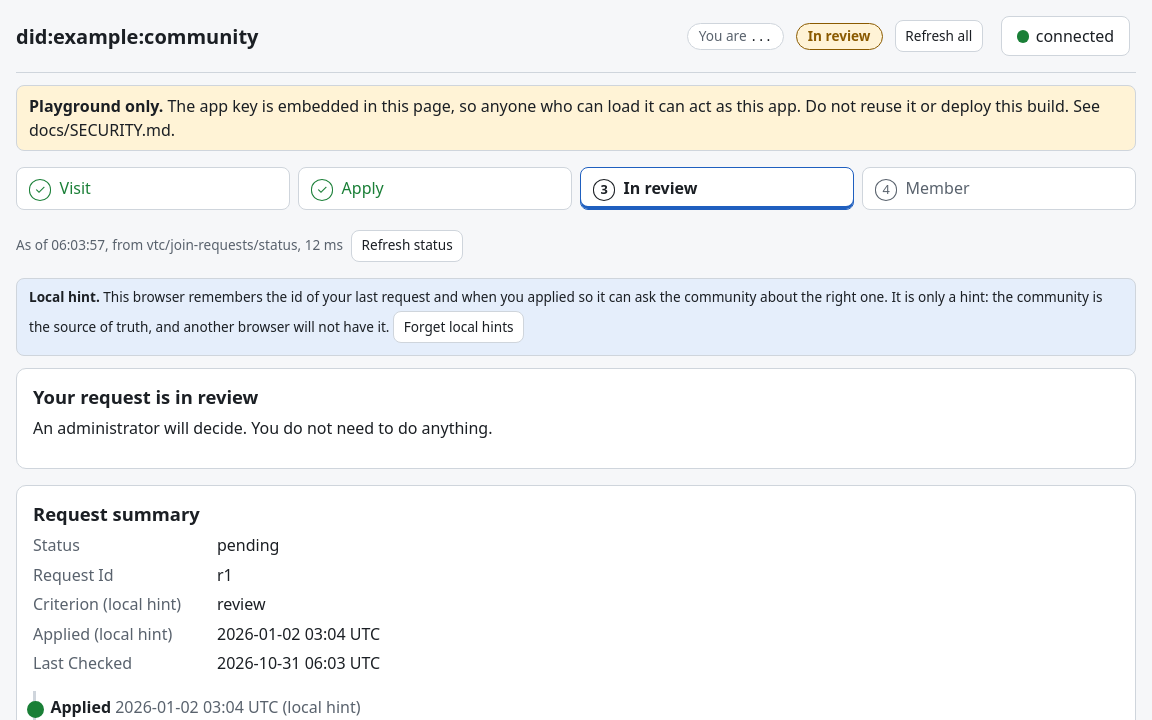
Test case: local hints › labels the remembered request as a hint and forgets it on demand, then re-reads
The image size is (1152, 720).
Check: the text "Local hint." is shown, box x1=29 y1=287 x2=100 y2=306
Check: the text "only a hint" is shown, box x1=29 y1=287 x2=1102 y2=336
What coordinates should you click on to do the following:
click the button "Forget local hints"
I would click on:
 (459, 327)
Its box is x1=393 y1=311 x2=524 y2=343.
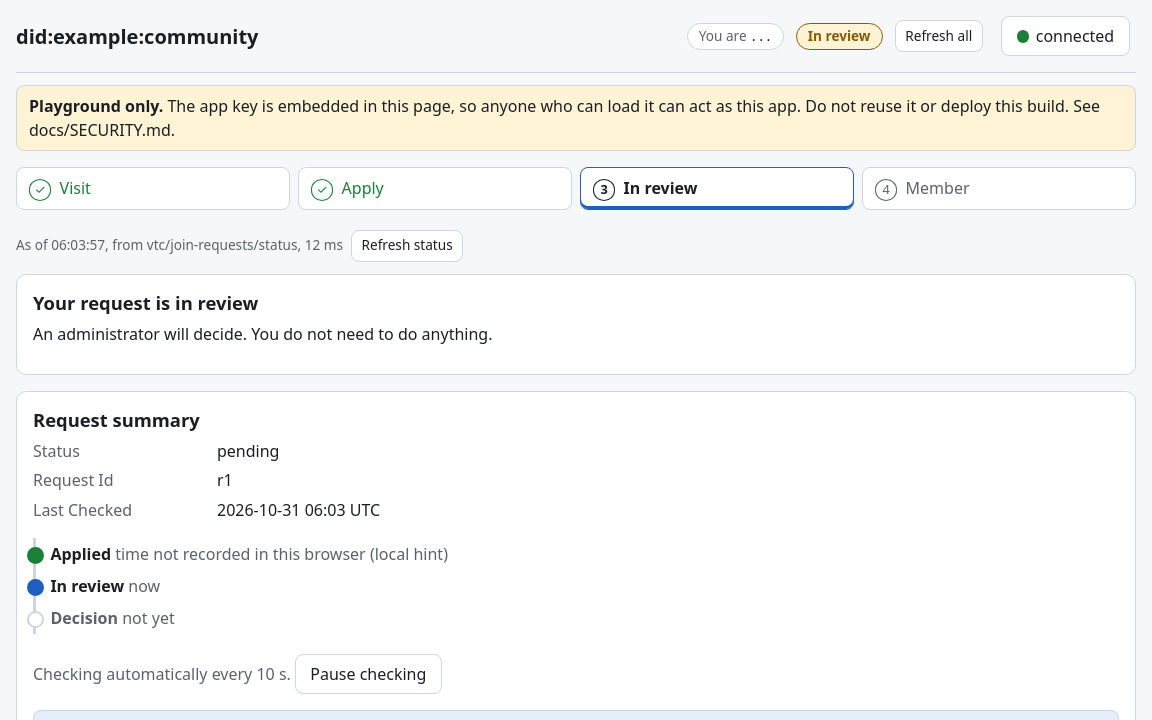
Check: the text "Local hint." is gone
